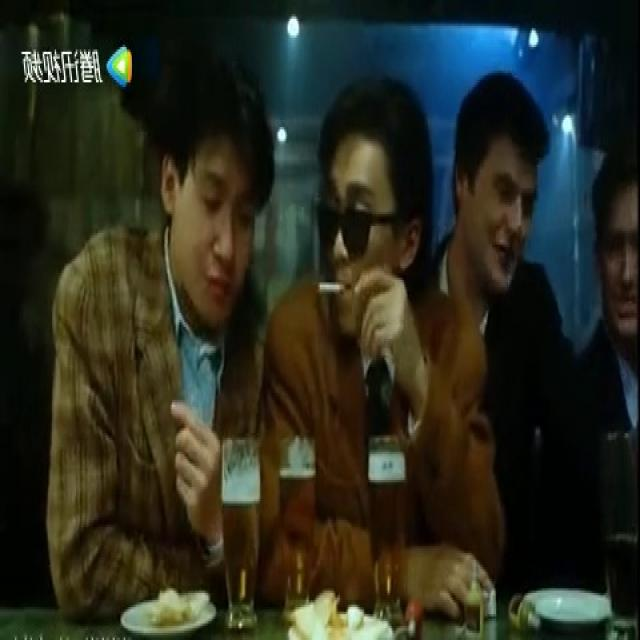smoking: (315, 280, 346, 300)
